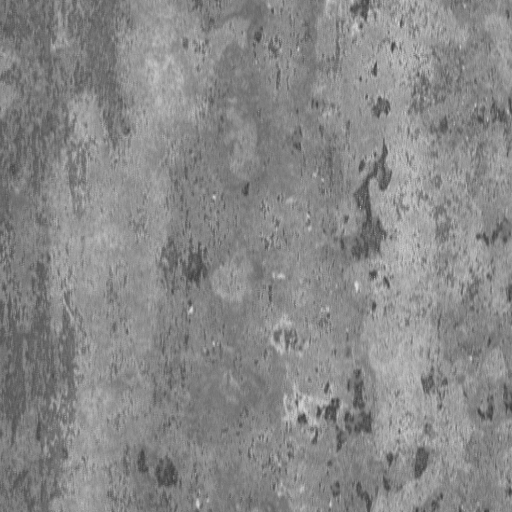xingxingliewen: (296, 363, 375, 452), (339, 137, 393, 264)
